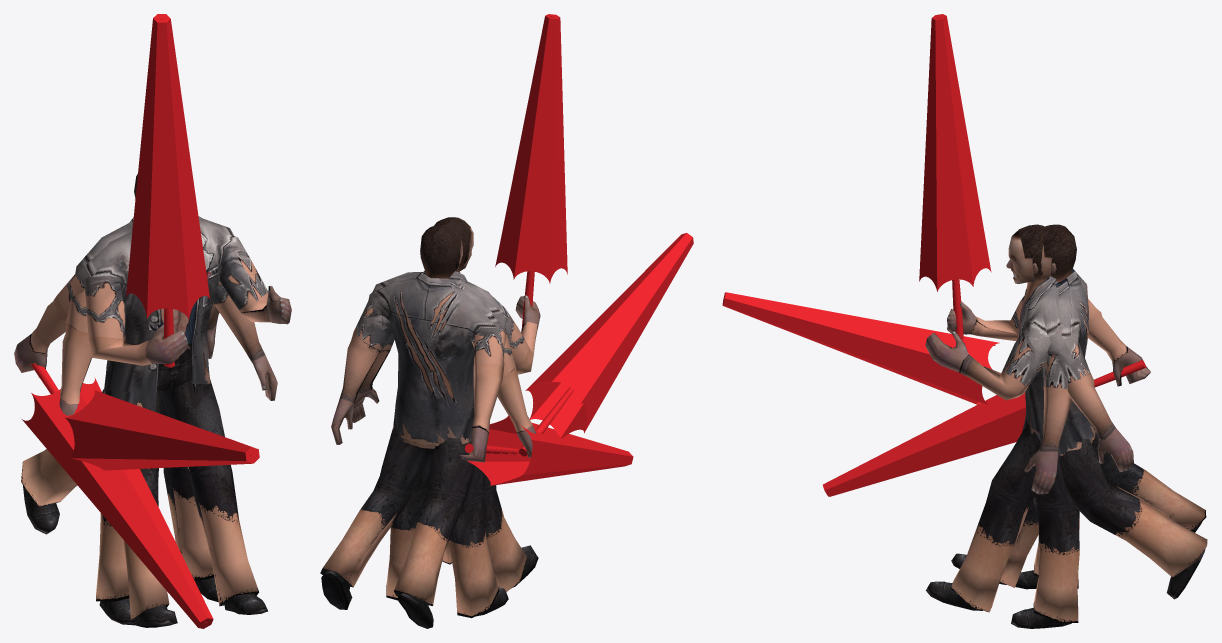
The model's file is main_char_animated_larry_4.obj.
3 renders of one model, left to right at view 1: azimuth 30°, elevation 25°; view 2: azimuth 150°, elevation 25°; view 3: azimuth 270°, elevation 25°, orthographic. The views are drawn at different scales.
Visible parts, largest first — view 1: run2_char, run1_char, stand_char; view 2: stand_char, run2_char, run1_char; view 3: run2_char, run1_char, stand_char.
Boxes of the visible parts, x1,y1,x2,y2 form: run2_char: (21, 14, 267, 614); run1_char: (14, 223, 291, 628); stand_char: (59, 174, 277, 625); stand_char: (353, 224, 693, 618); run2_char: (331, 14, 567, 628); run1_char: (320, 272, 633, 609); run2_char: (919, 14, 1206, 612); run1_char: (823, 288, 1207, 599); stand_char: (722, 224, 1092, 628).
Bounding box in the file's own units: 2.03 × 5.24 × 4.11.
3 materials, 3 textured.
